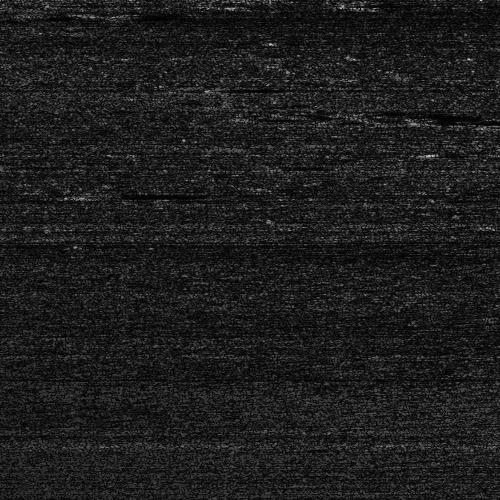rock: (56, 188, 139, 197), (479, 121, 500, 130)
shadow: (98, 188, 181, 197)
